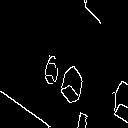cube: (57, 64, 90, 106), (112, 71, 128, 128), (36, 56, 60, 86)
